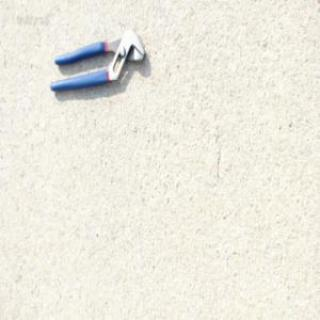Pliertrack_idkeyframe: (46, 24, 144, 91)
